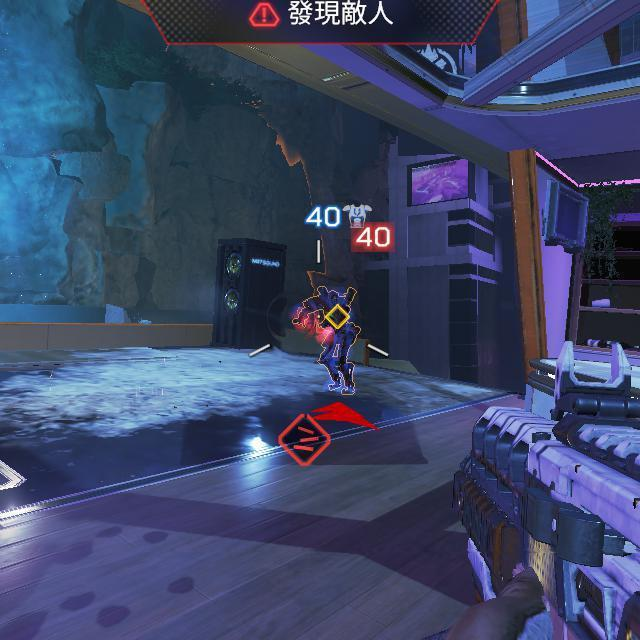avatar: (291, 283, 362, 395)
object: (323, 303, 352, 331)
